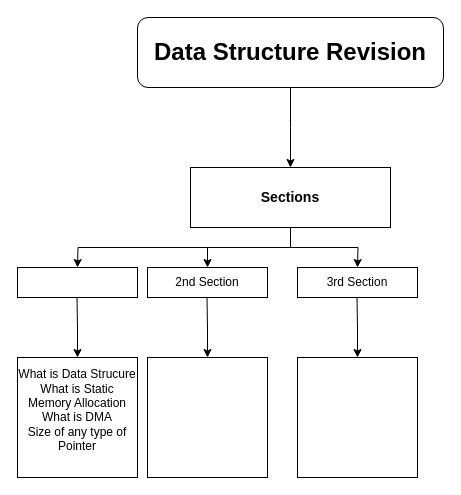
Image size: 461x495. Some labels were removed from this diagram. The shapes that lost their labels are listed below. From the top down, each one's box as (x1, y1, x2, y2) in pixels, then its label:
(16, 266, 138, 298): 1st Section
(146, 356, 268, 478): Types of DS. Abstract DS Time and Space Complexity
(296, 356, 418, 478): Recursion
